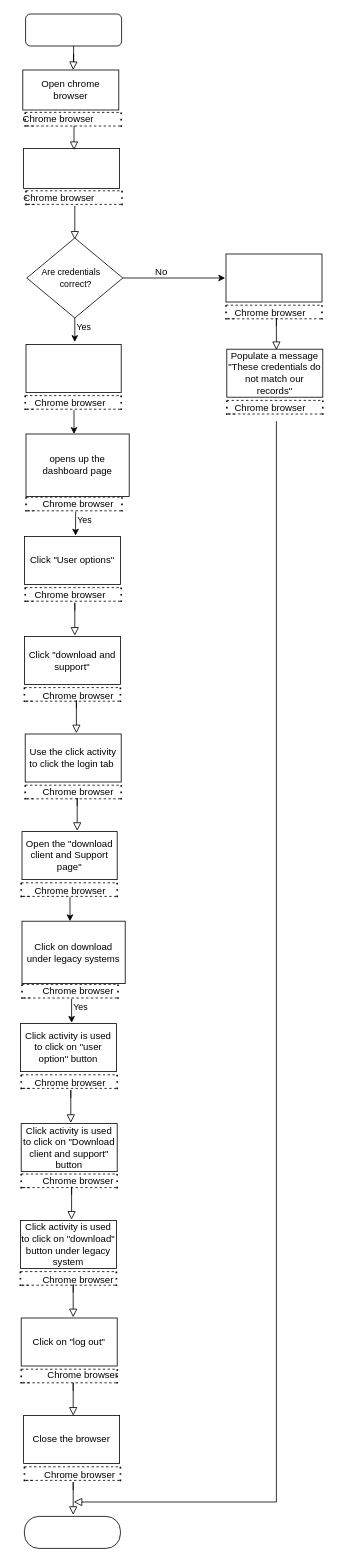
This 338x1562 diagram has some shape labels left out. The centre of each missing label's shape, as x and y in pixels:
"click on login button" goes at [273,277].
"Click on the login button" goes at [73,368].
"End" goes at [72,1532].
"Key in the username and password" goes at [71,168].
"Start" goes at [73,29].
